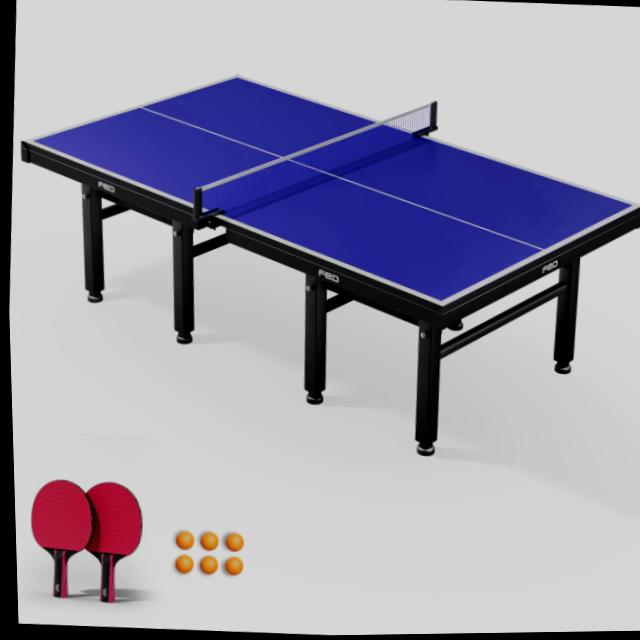TT Net: (191, 100, 438, 226)
TT Racket: (29, 477, 96, 554), (81, 480, 146, 558)
TT Table: (26, 76, 637, 304)
